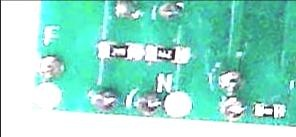chip-resistor: (143, 41, 190, 65), (95, 39, 139, 62), (252, 101, 287, 119)
